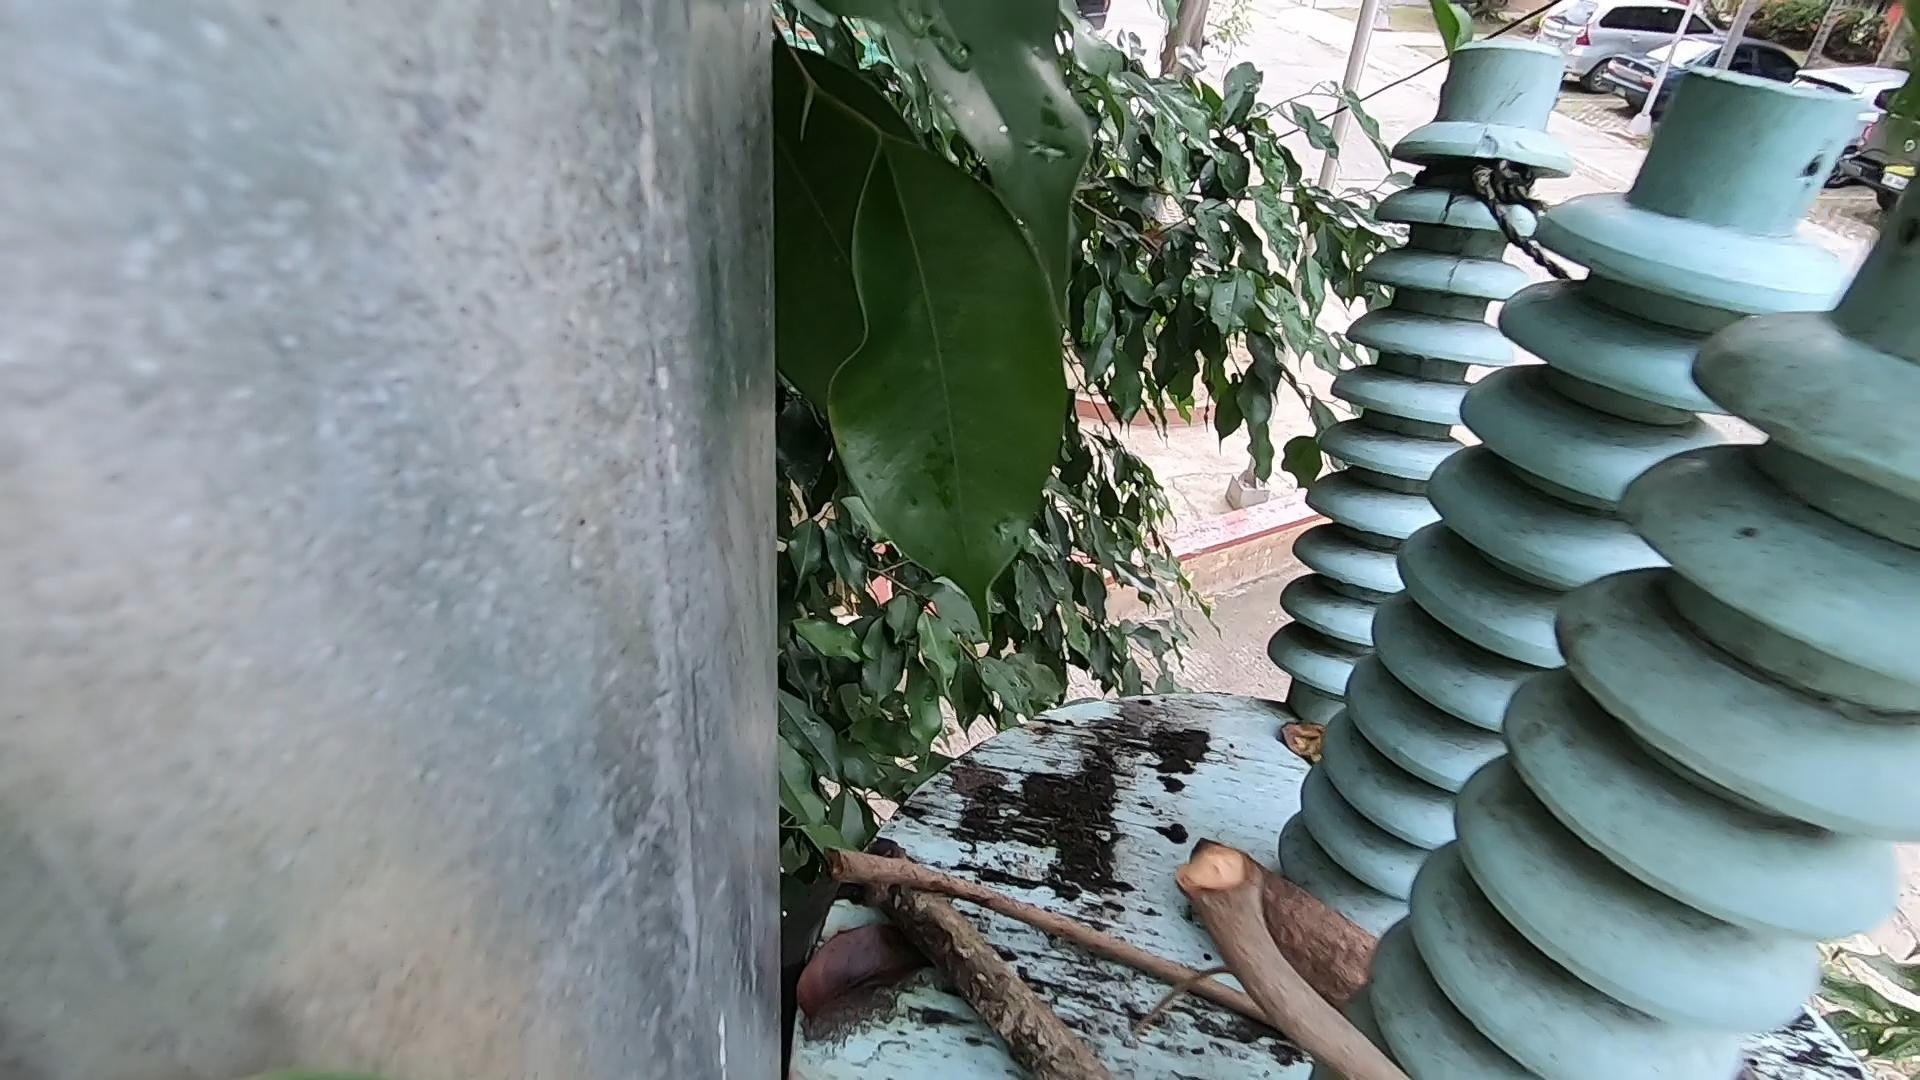branch with leaves: (856, 819, 997, 1063)
leaf: (1240, 688, 1331, 793)
mahogany fruit: (1179, 818, 1437, 998)
tree branch: (843, 823, 1208, 1009), (1143, 804, 1329, 1040)
